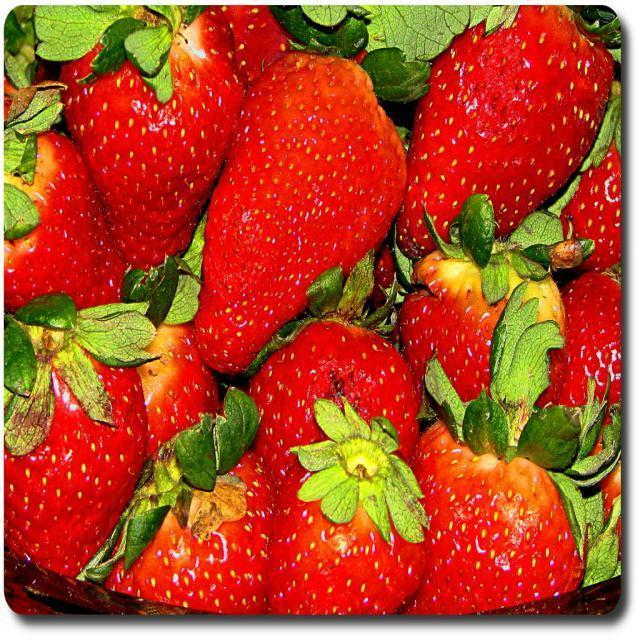Strawberry: (192, 48, 408, 374), (394, 4, 618, 264), (58, 4, 244, 271), (76, 384, 278, 616), (3, 291, 151, 580), (266, 394, 429, 616), (408, 413, 590, 609), (398, 246, 566, 421), (2, 80, 128, 312), (244, 320, 419, 474), (543, 271, 622, 414)
